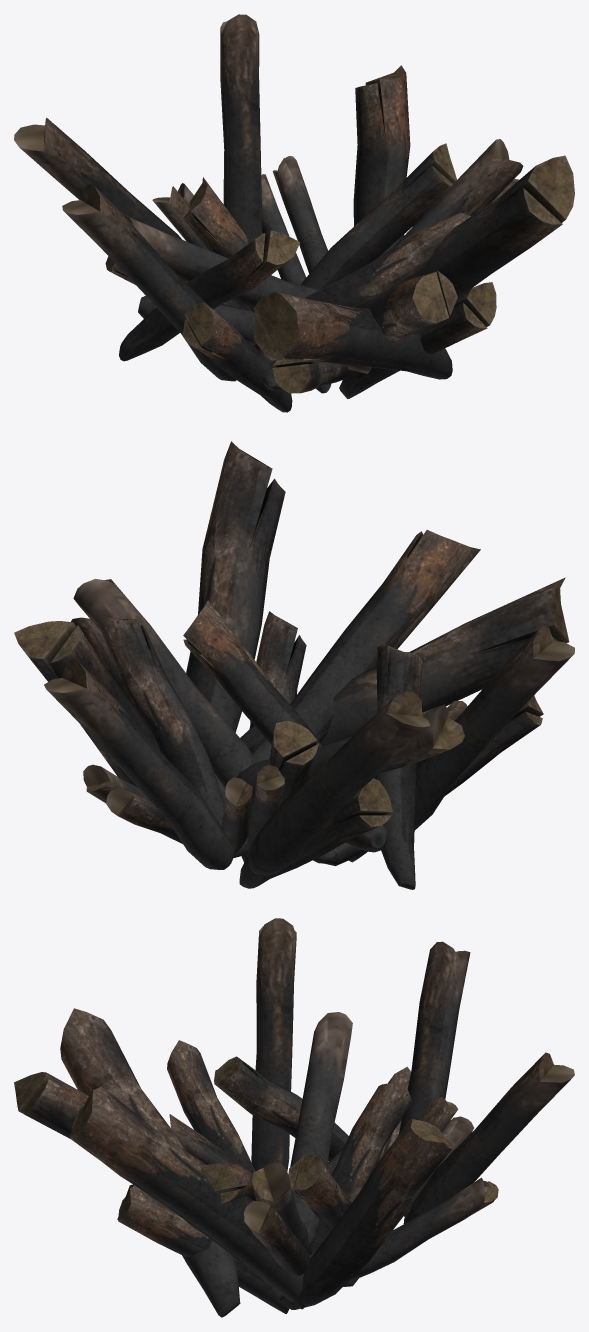
Rendered from JWC_Brazier_Kagaribi_A_03_Firewood.fbx.
The picture shows the model from 3 angles, top to bottom: view 1: azimuth 30°, elevation 25°; view 2: azimuth 150°, elevation 25°; view 3: azimuth 270°, elevation 25°; orthographic projection. The views are drawn at different scales.
Visible parts, largest first — view 1: JWC_Brazier_Kagaribi_A_03_Firewood; view 2: JWC_Brazier_Kagaribi_A_03_Firewood; view 3: JWC_Brazier_Kagaribi_A_03_Firewood.
Part boxes in pixels (x1,y1,x2,y2): JWC_Brazier_Kagaribi_A_03_Firewood: [14, 14, 574, 412]; JWC_Brazier_Kagaribi_A_03_Firewood: [14, 441, 574, 889]; JWC_Brazier_Kagaribi_A_03_Firewood: [14, 918, 574, 1317].
Bounding box in the file's own units: 1.12 × 0.6662 × 1.21.
